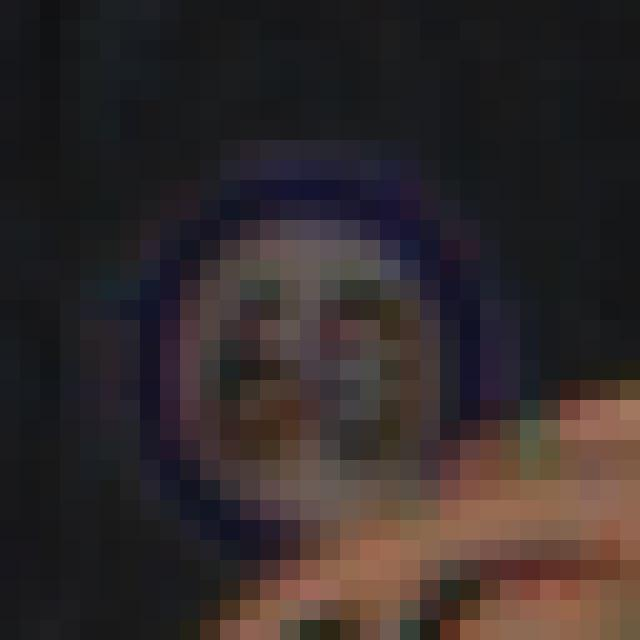SPEED-LIMIT-60: (123, 155, 490, 564)
